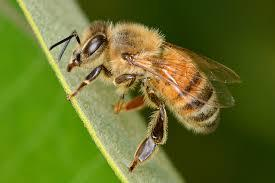Apis-mellifera-scutellata: (45, 10, 242, 172)
